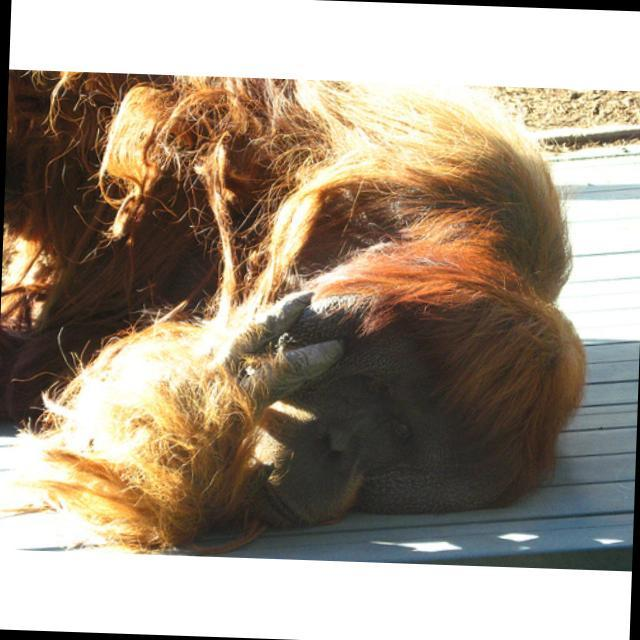Orangutan: (65, 115, 598, 555)
